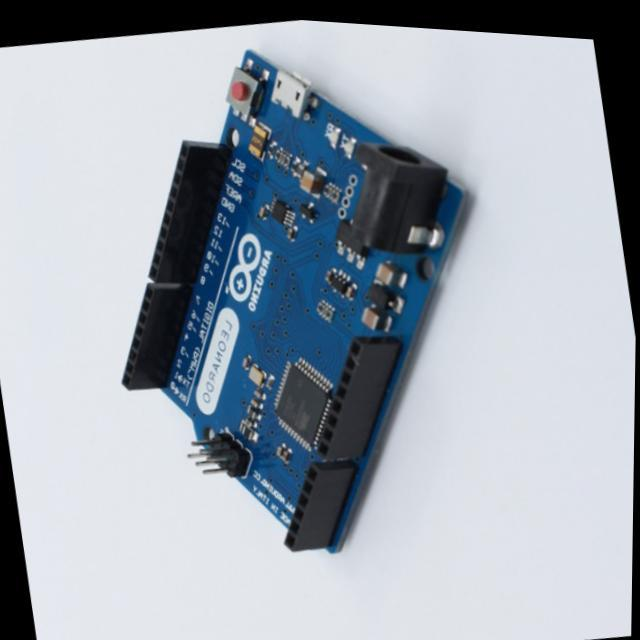Arduino-leonardo: (123, 51, 465, 553)
